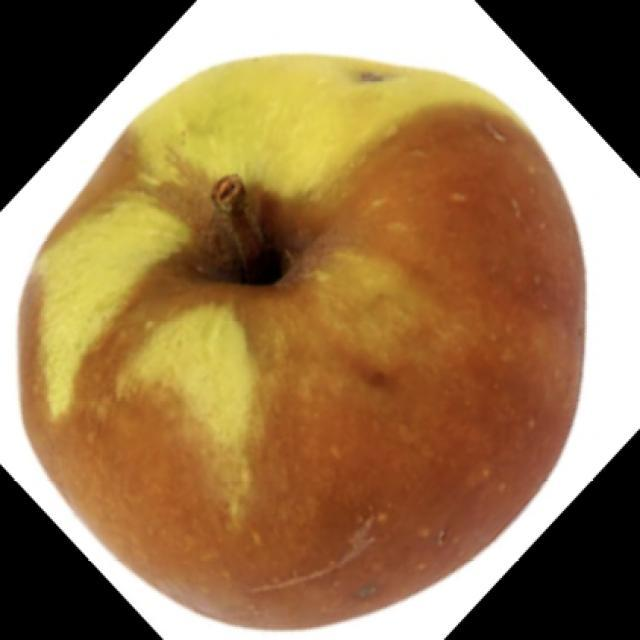Rotten: (24, 50, 588, 622)
